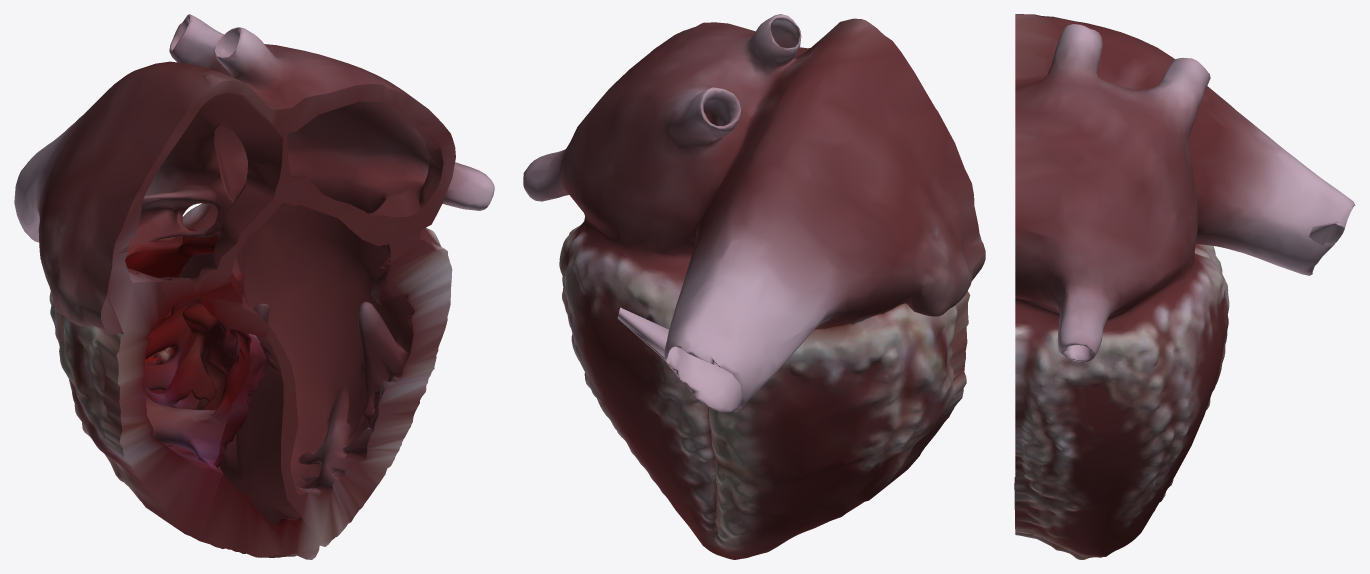
The model's file is limbLeadsHeart (1).fbx.
3 views of the same model, side by side, from view 1: azimuth 30°, elevation 25°; view 2: azimuth 150°, elevation 25°; view 3: azimuth 270°, elevation 25° (orthographic). The views are drawn at different scales.
Parts seen in each view (by area): view 1: MM634_BP51951_FMA4706_Coronary_sinus821; view 2: MM634_BP51951_FMA4706_Coronary_sinus821; view 3: MM634_BP51951_FMA4706_Coronary_sinus821.
Boxes of the visible parts, bbox=[...] form: MM634_BP51951_FMA4706_Coronary_sinus821: bbox=[14, 14, 494, 559]; MM634_BP51951_FMA4706_Coronary_sinus821: bbox=[523, 14, 985, 559]; MM634_BP51951_FMA4706_Coronary_sinus821: bbox=[1014, 14, 1355, 559].
Bounding box in the file's own units: 0.6869 × 0.4911 × 0.8184.
